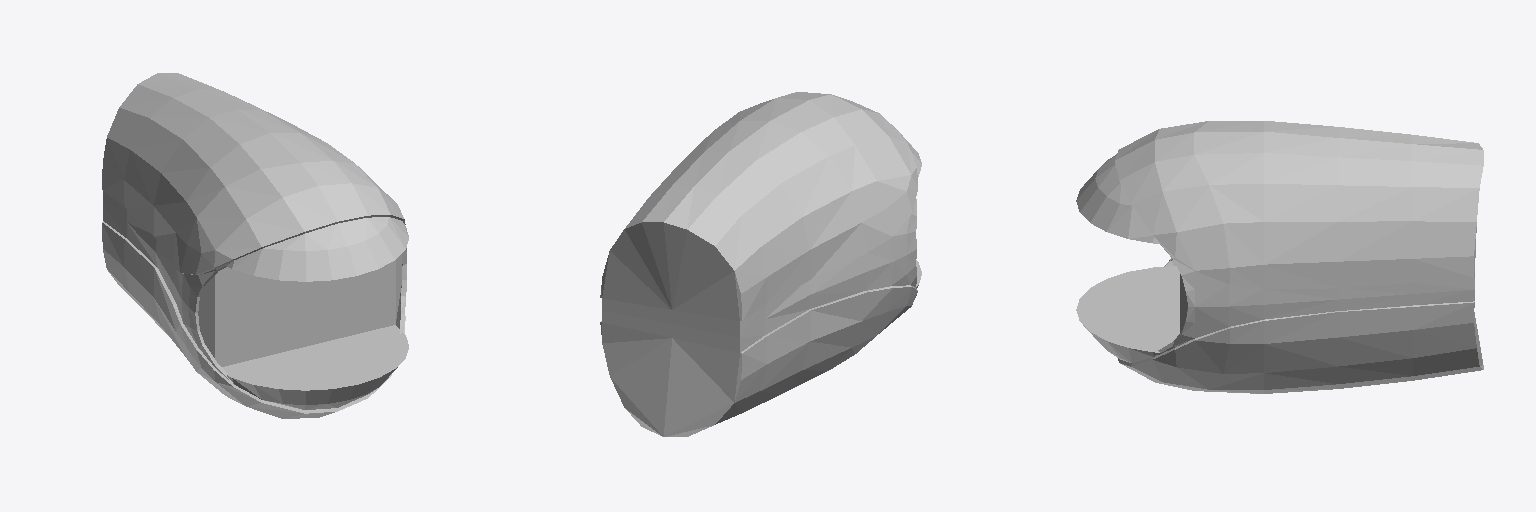
The model's file is HipPitch.obj.
3 renders of one model, left to right at view 1: azimuth 30°, elevation 25°; view 2: azimuth 150°, elevation 25°; view 3: azimuth 270°, elevation 25°, orthographic.
Visible parts, largest first — view 1: default; view 2: default; view 3: default.
Boxes of the visible parts, x1=… form: default: x1=102, y1=73, x2=408, y2=418; default: x1=600, y1=92, x2=921, y2=436; default: x1=1076, y1=121, x2=1483, y2=393.
Size of the model in its own units: 0.2043 by 0.2377 by 0.3443.